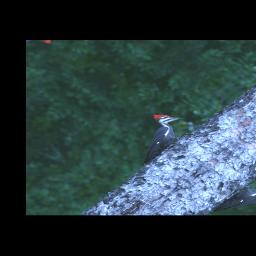Woodpecker: (112, 105, 201, 169)
